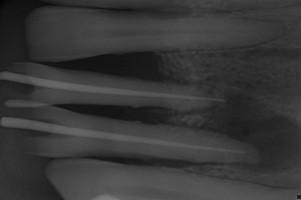Furcation Involvement: (199, 80, 301, 175)
